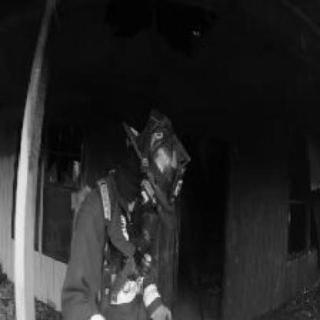other: (136, 126, 182, 184)
